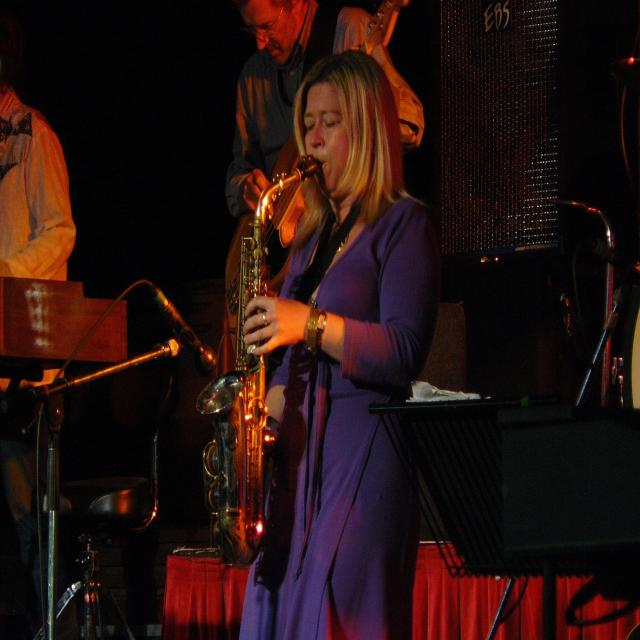saxophone: (197, 156, 319, 568)
